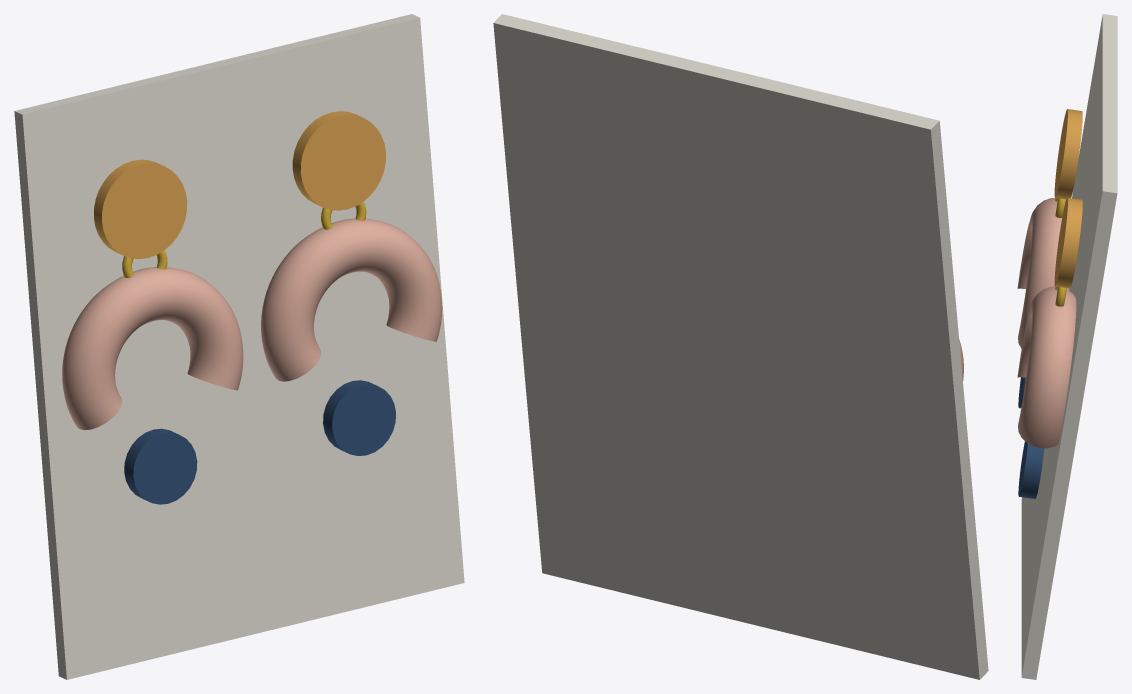
File: polymer_clay_jewellery.glb
The picture shows the model from 3 angles, left to right: view 1: azimuth 30°, elevation 25°; view 2: azimuth 150°, elevation 25°; view 3: azimuth 270°, elevation 25°; orthographic projection. The views are drawn at different scales.
Bounding box in the file's own units: 1.12 × 1.44 × 0.2671.
